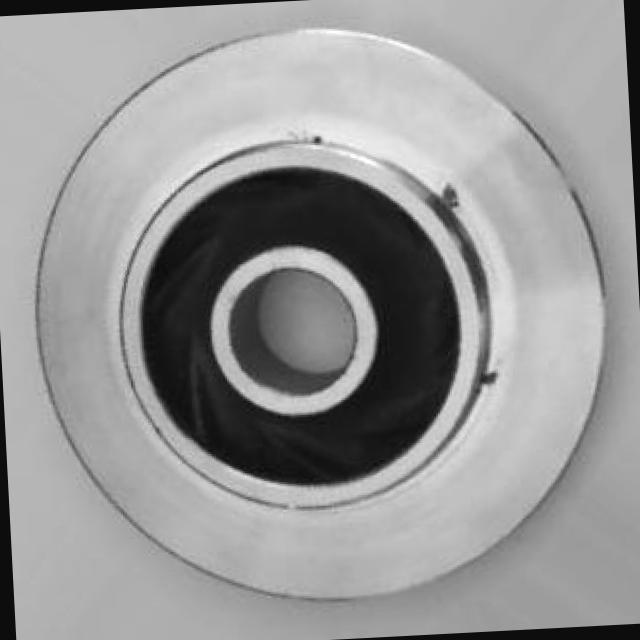Defect: (431, 174, 468, 212)
